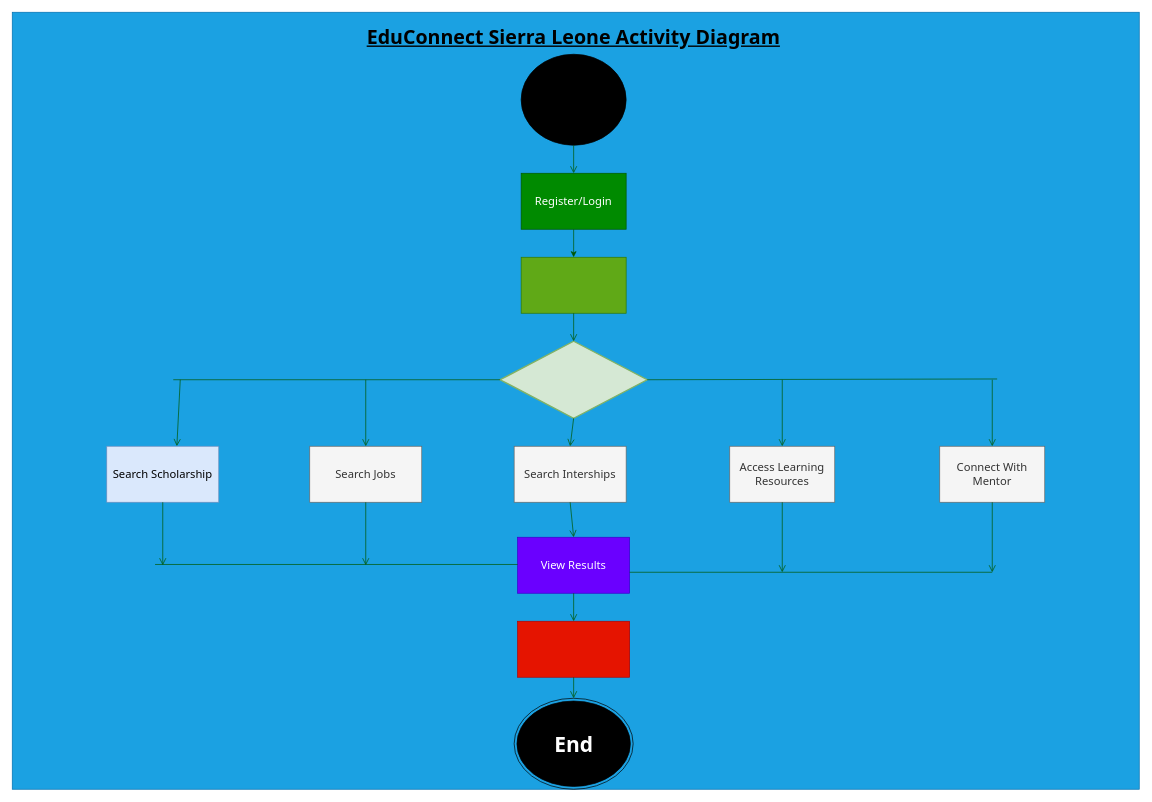
Image size: 1152x802. Some labels were removed from this diagram. Here are the shapes that lost their labels. From the top down, the box of each, then its label:
(520, 54, 626, 145): Start
(520, 257, 626, 313): Access Dashboard
(499, 340, 648, 419): Select Service
(517, 621, 630, 677): Logout
